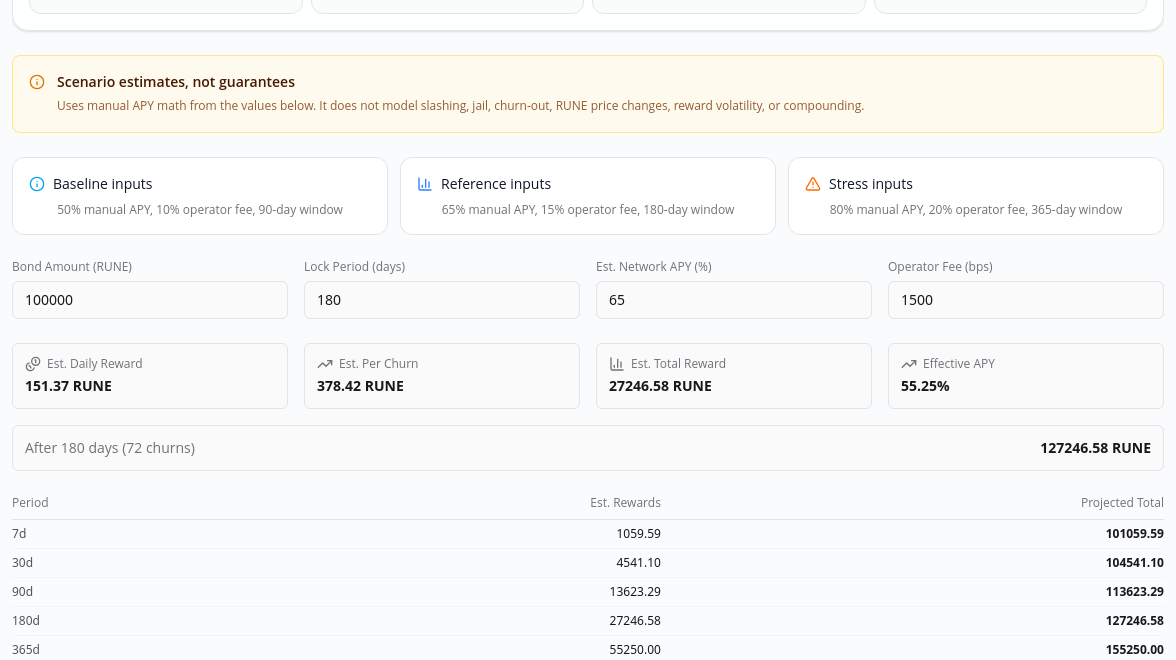
BondSimulator trust copy › withholds reward projections when operator fee exceeds 100 percent
The width and height of the screenshot is (1176, 660).
(page scrolled)
Clear the number field labelled "Operator Fee (bps)" at (1026, 300), box [888, 281, 1164, 319]
(page scrolled)
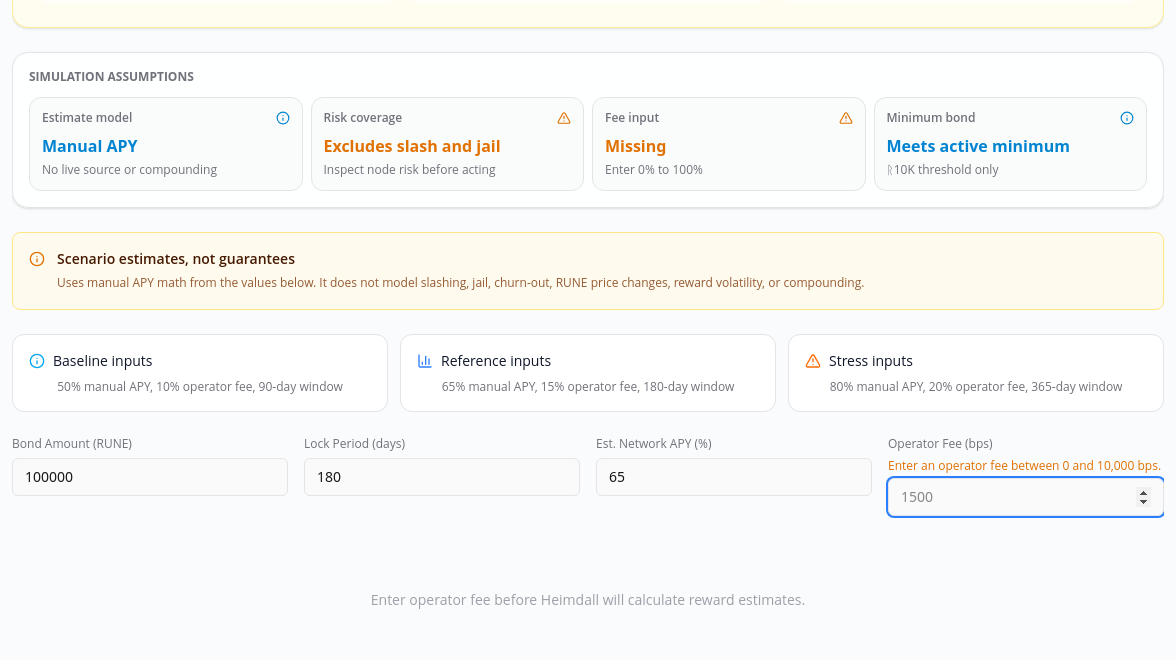
Type "12000" into the number field labelled "Operator Fee (bps)".
click(1026, 497); type("12000")  # box [888, 478, 1164, 516]
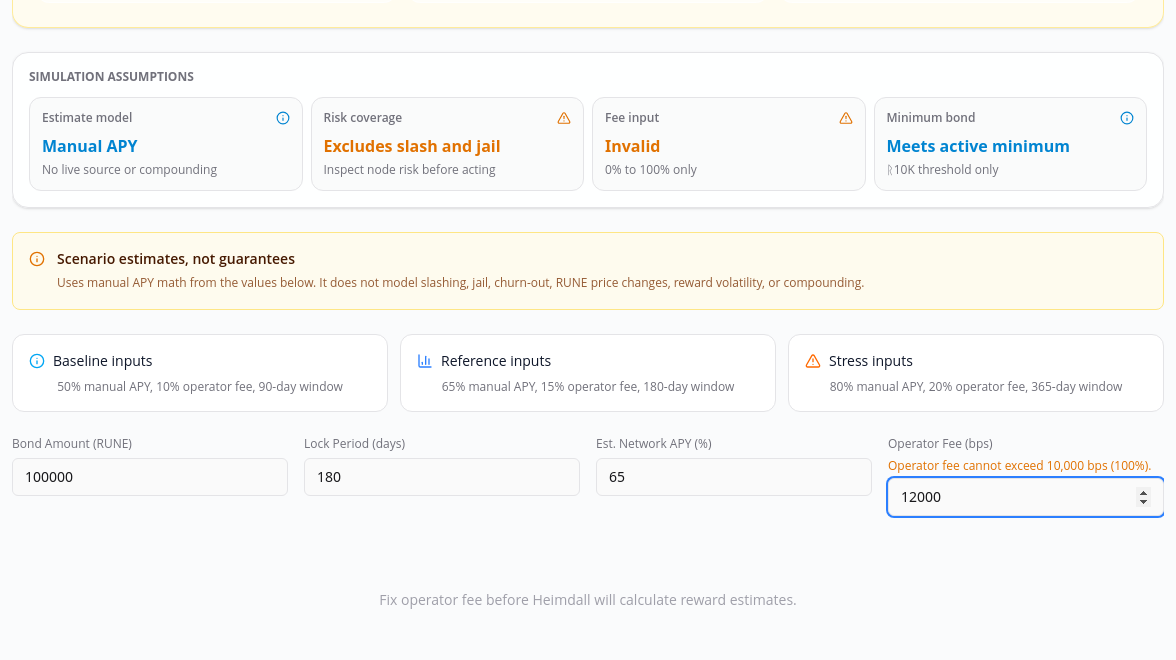
expect the text "Invalid" is shown: met, box [605, 135, 660, 157]
expect the text "0% to 100% only" is shown: met, box [605, 161, 697, 178]
expect the text "Fix operator fee before Heimdall will calculate reward estimates." is shown: met, box [379, 590, 797, 609]
